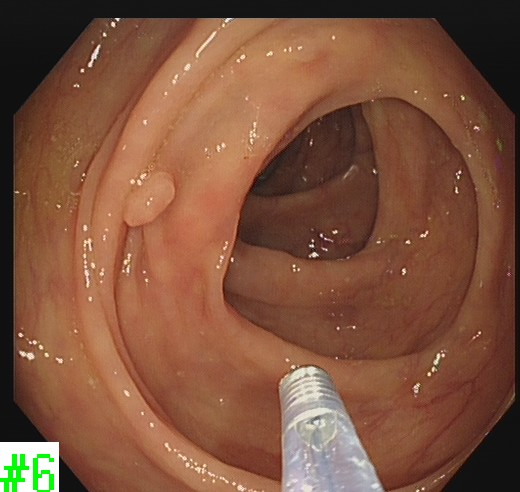others: (119, 169, 177, 229)
